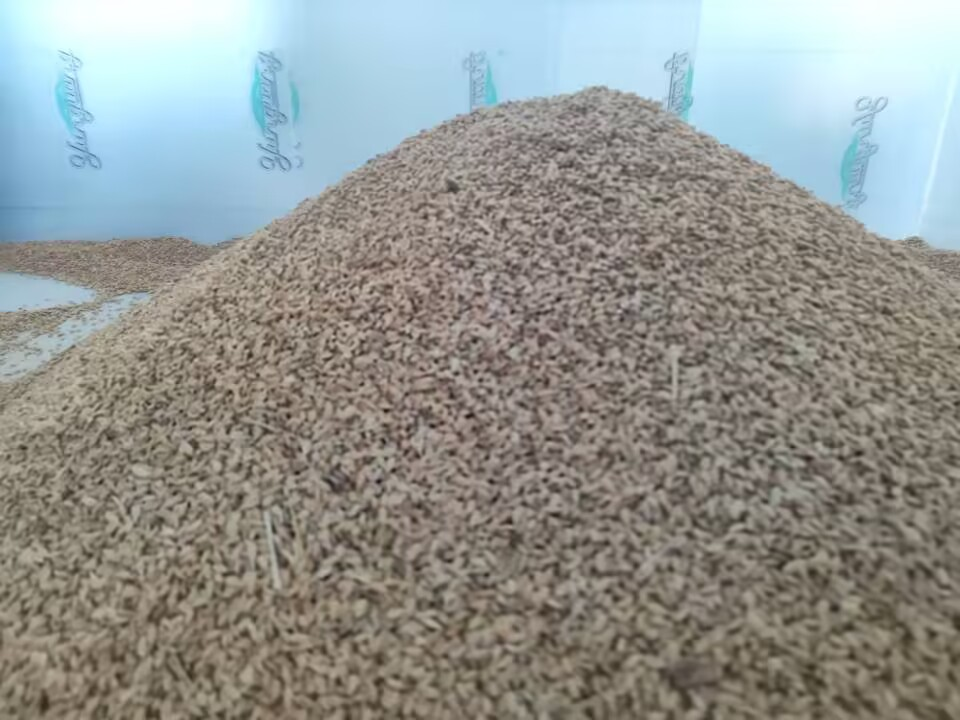Grain: (55, 78, 943, 705)
